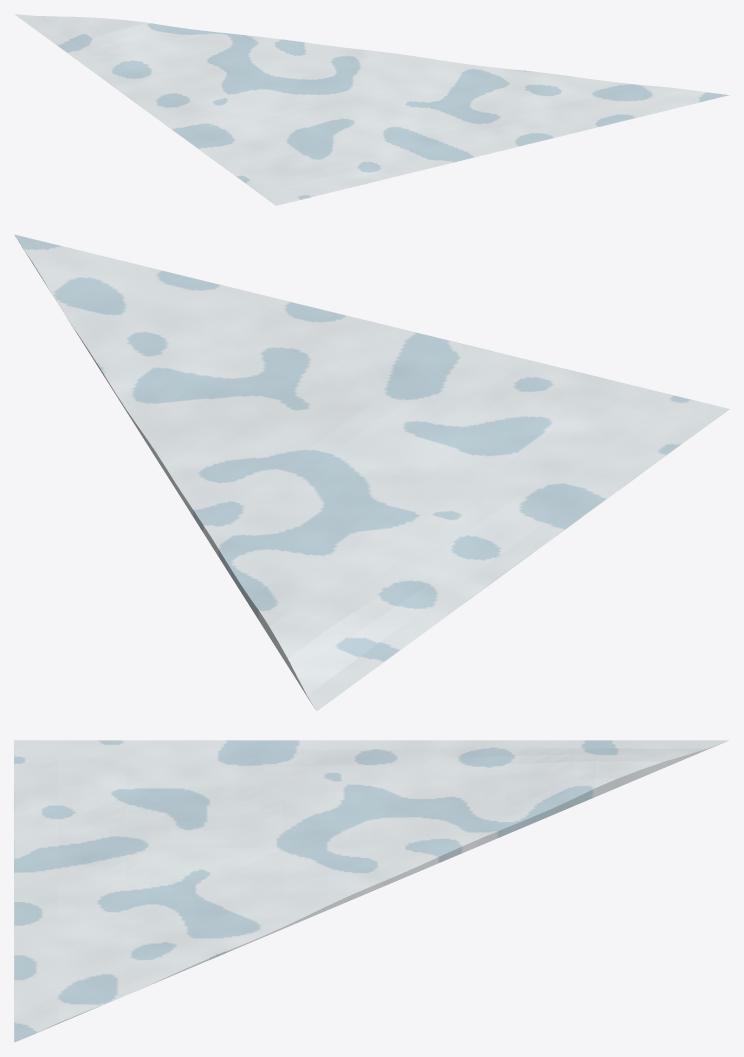
File: Snow_Flat_07_NW.obj
3 views of the same model, one above another, from view 1: azimuth 30°, elevation 25°; view 2: azimuth 150°, elevation 25°; view 3: azimuth 270°, elevation 25° (orthographic). The views are drawn at different scales.
Size of the model in its own units: 10 by 0.1439 by 10.
1 material, 1 textured.
